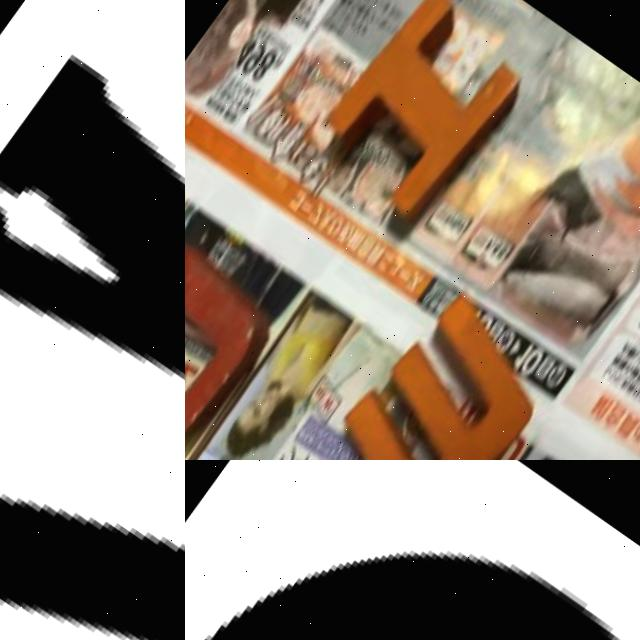C: (185, 460, 640, 640), (0, 499, 185, 640)
I: (300, 0, 538, 230)
U: (185, 237, 292, 460)
W: (312, 277, 572, 460)
Y: (0, 31, 185, 460)
